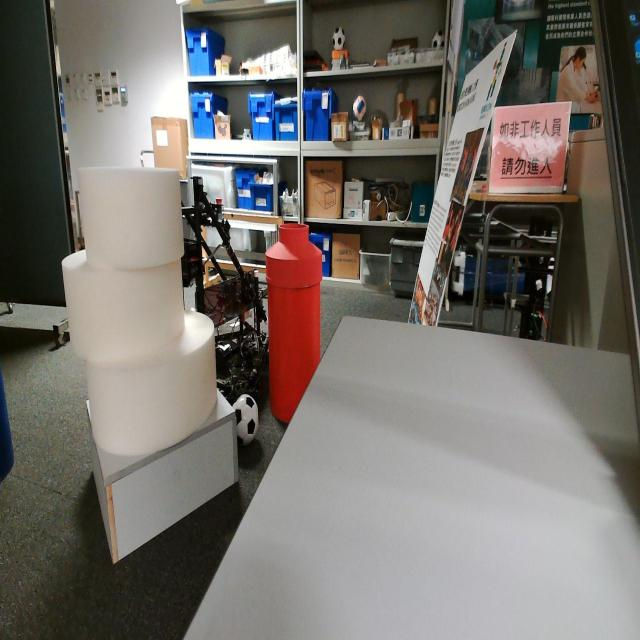Soccer Ball: (236, 396, 258, 442), (353, 95, 367, 118), (332, 27, 345, 51), (432, 31, 444, 49)
